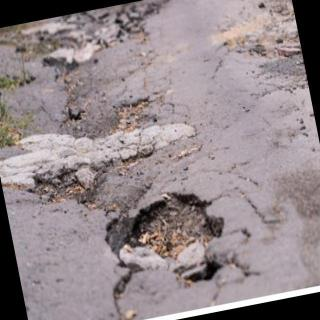pothole: (4, 133, 199, 210), (108, 192, 225, 304), (0, 2, 170, 75), (220, 0, 302, 60)
